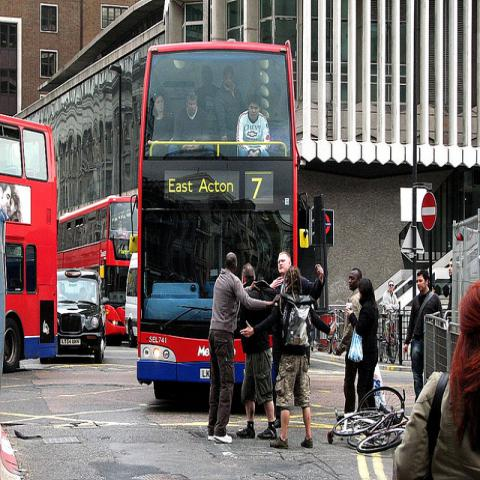bus: (129, 46, 303, 392), (0, 114, 59, 372), (56, 195, 136, 345)
car: (57, 269, 107, 362)
truck: (125, 251, 138, 348)
